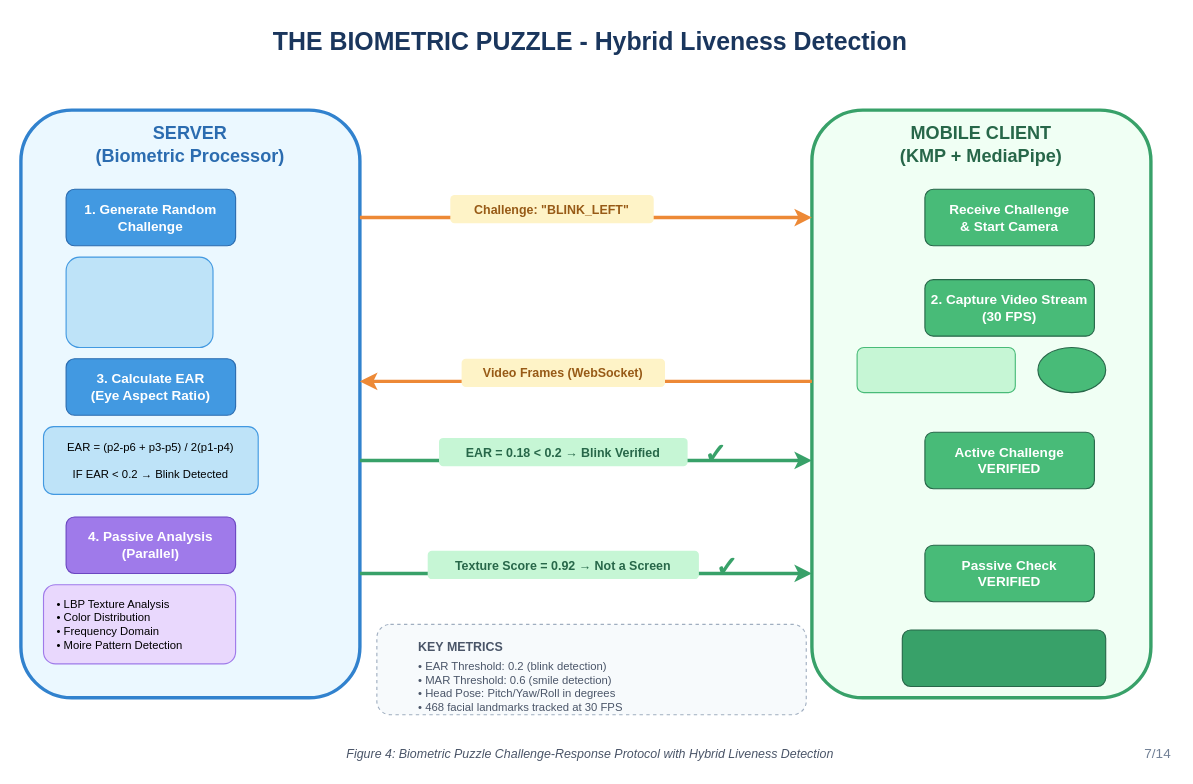
Image size: 1193x784. Some labels were removed from this diagram. Here are the shapes that lost their labels. From the top down, the centre of each, then its label:
At pixel 139 301: "Examples: • Blink Left Eye • Smile • Turn Head Right • Raise Eyebrows".
At pixel 935 369: "MediaPipe Face Mesh 468 Facial Landmarks".
At pixel 1071 369: "Camera Icon".
At pixel 1003 657: "LIVENESS = PASS (Active ✓ + Passive ✓)".
